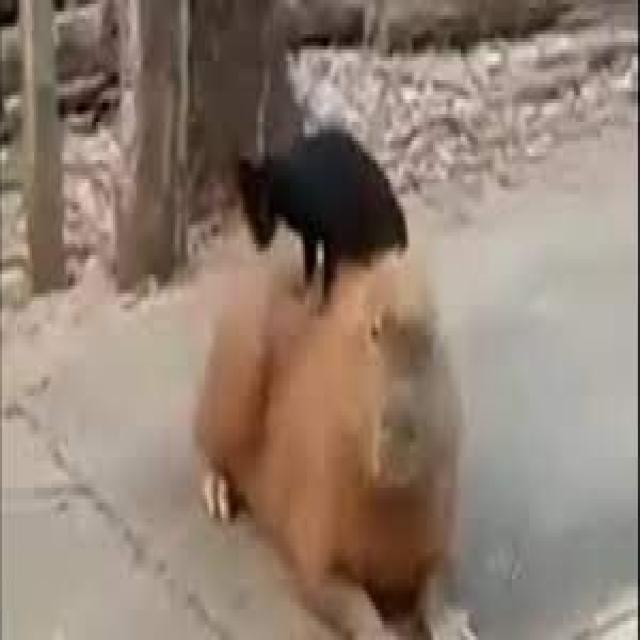capy: (188, 237, 482, 636)
